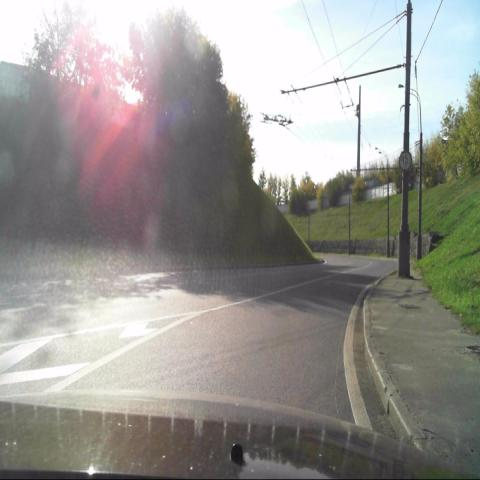3_13: (398, 148, 413, 175)
